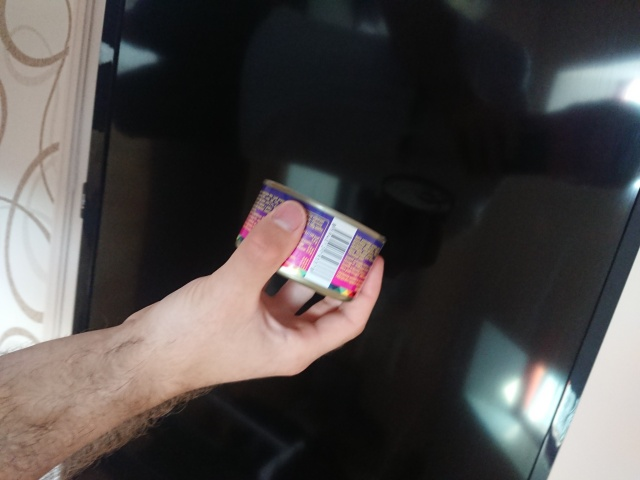Giana Tuna Salad Mexico 185g: (233, 176, 390, 305)
